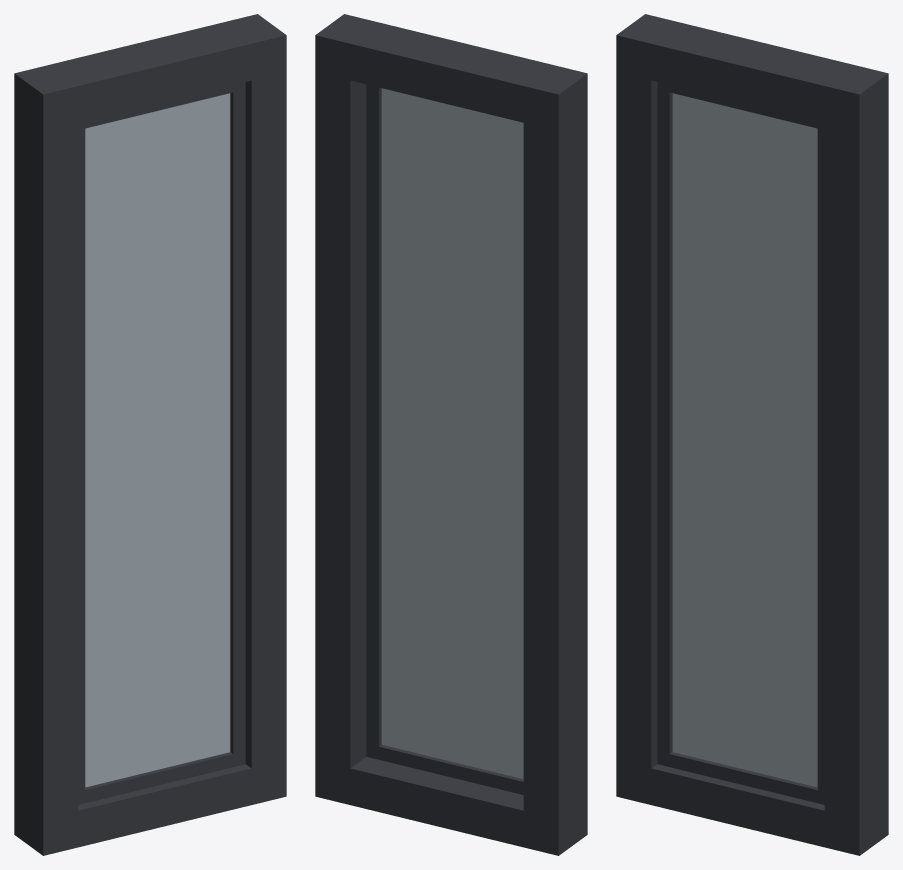
File: SM_Opening_Window03613_BlackFrost_01.gltf
3 renders of one model, left to right at view 1: azimuth 30°, elevation 25°; view 2: azimuth 150°, elevation 25°; view 3: azimuth 330°, elevation 25°, orthographic.
Parts seen in each view (by area): view 1: SM_Opening_Window03613_BlackFrost_01; view 2: SM_Opening_Window03613_BlackFrost_01; view 3: SM_Opening_Window03613_BlackFrost_01.
Boxes of the visible parts, <box> form: SM_Opening_Window03613_BlackFrost_01: <box>14,14,286,855</box>; SM_Opening_Window03613_BlackFrost_01: <box>315,14,587,855</box>; SM_Opening_Window03613_BlackFrost_01: <box>616,14,888,855</box>.
Size of the model in its own units: 0.485 by 1.45 by 0.1.
Materials: 1 (1 with a texture image).
